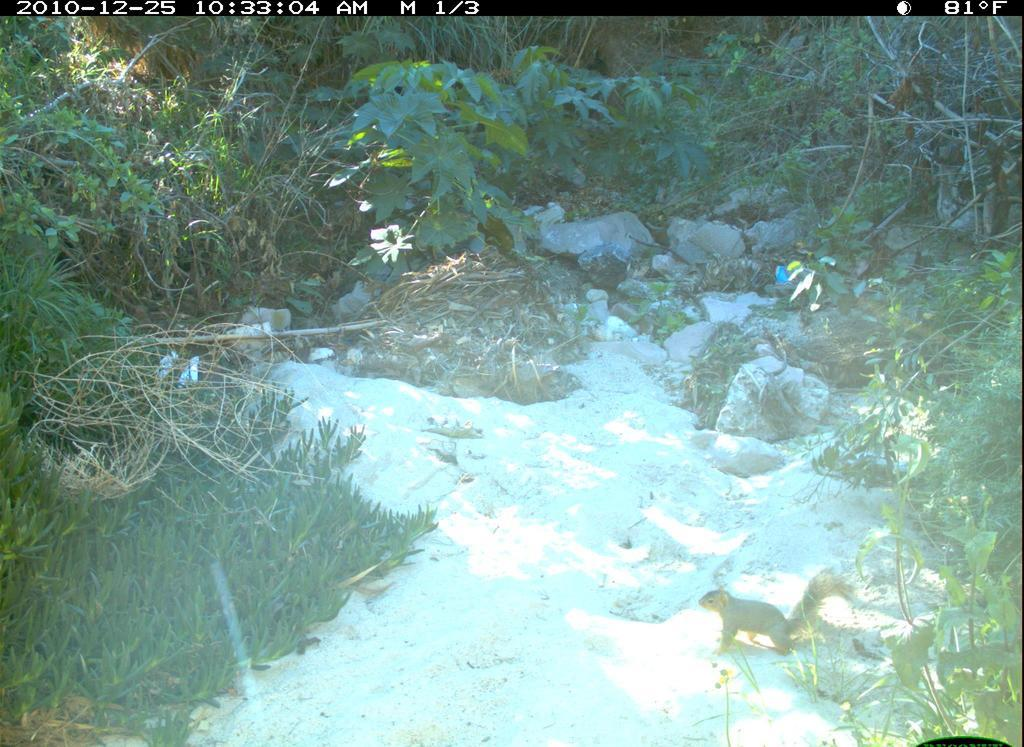squirrel: (693, 562, 865, 664)
